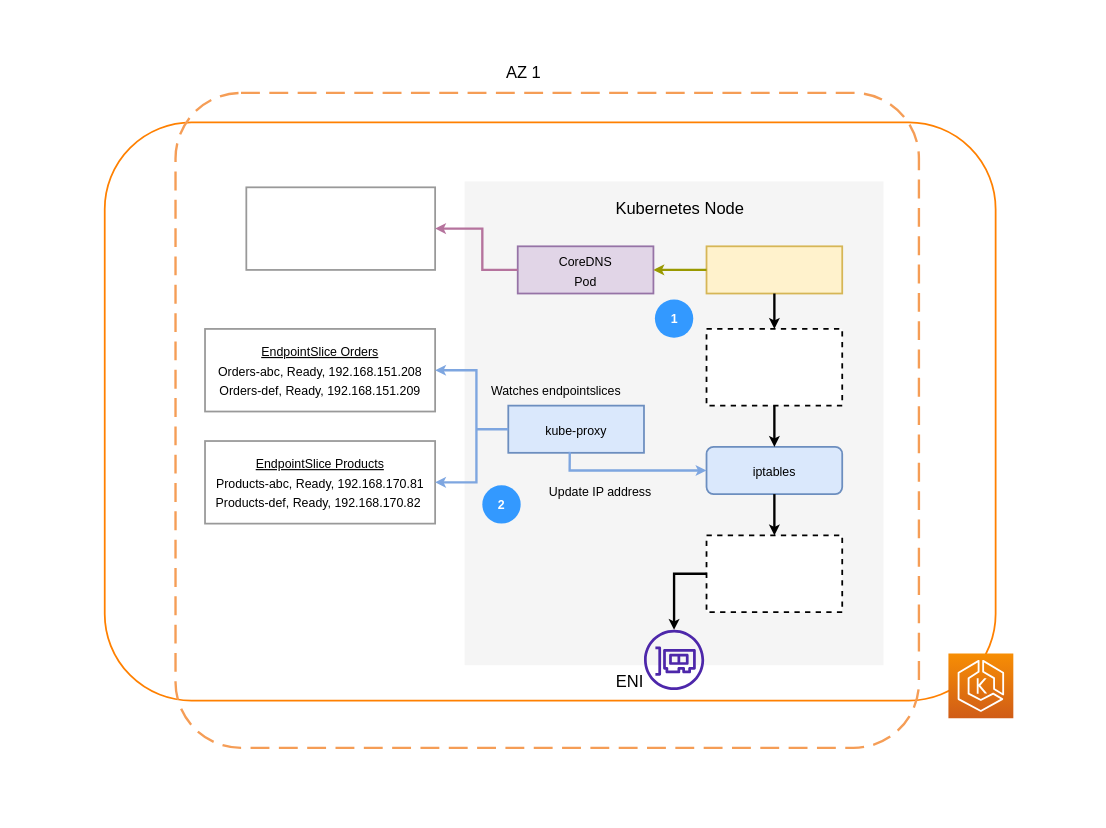
Image size: 1106x828. Some labels were removed from this diagram. The shapes that lost their labels are listed below. From the top down, each one's box as (x1, y1, x2, y2) in pixels, then its label:
(245, 186, 436, 271): CoreDNS Entries Service Orders, 10.100.24.12 Service Products, 10.100.78.3
(705, 245, 843, 294): Orders-abc 192.168.151.208
(705, 328, 843, 406): Packet Src: 192.168.151.208 Dest: 10.100.78.3
(705, 534, 843, 613): Packet Src: 192.168.151.208 Dest: 192.168.170.82
